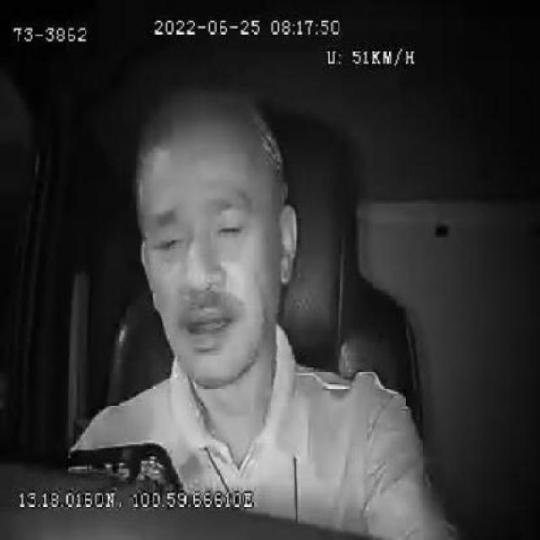phone: (62, 441, 184, 491)
